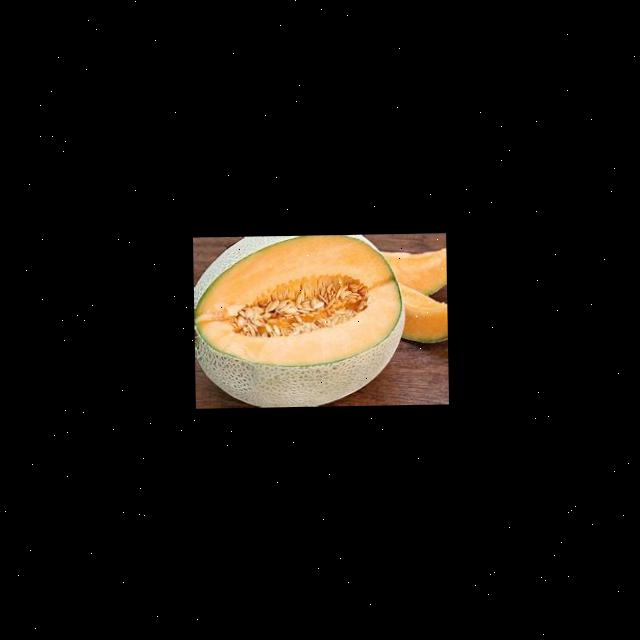Hami Melon: (192, 233, 406, 408)
